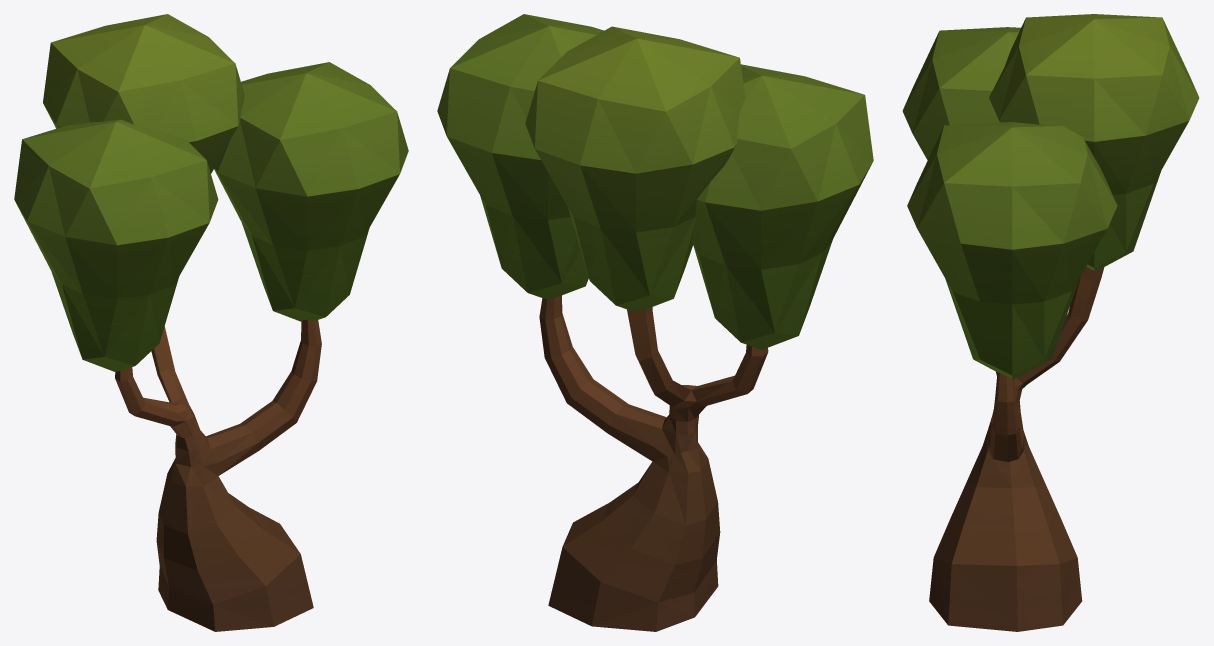
The model's file is luma-tree.glb.
3 views of the same model, side by side, from view 1: azimuth 30°, elevation 25°; view 2: azimuth 150°, elevation 25°; view 3: azimuth 270°, elevation 25° (orthographic). The views are drawn at different scales.
Visible parts, largest first — view 1: EA_Env_Flora_GreenTree_01a; view 2: EA_Env_Flora_GreenTree_01a; view 3: EA_Env_Flora_GreenTree_01a.
Boxes of the visible parts, left/top/right/bottom form: EA_Env_Flora_GreenTree_01a: left=14, top=14, right=408, bottom=631; EA_Env_Flora_GreenTree_01a: left=437, top=14, right=873, bottom=631; EA_Env_Flora_GreenTree_01a: left=902, top=14, right=1199, bottom=631.
Bounding box in the file's own units: 6.7 × 9.55 × 4.6.
1 material, 1 textured.
